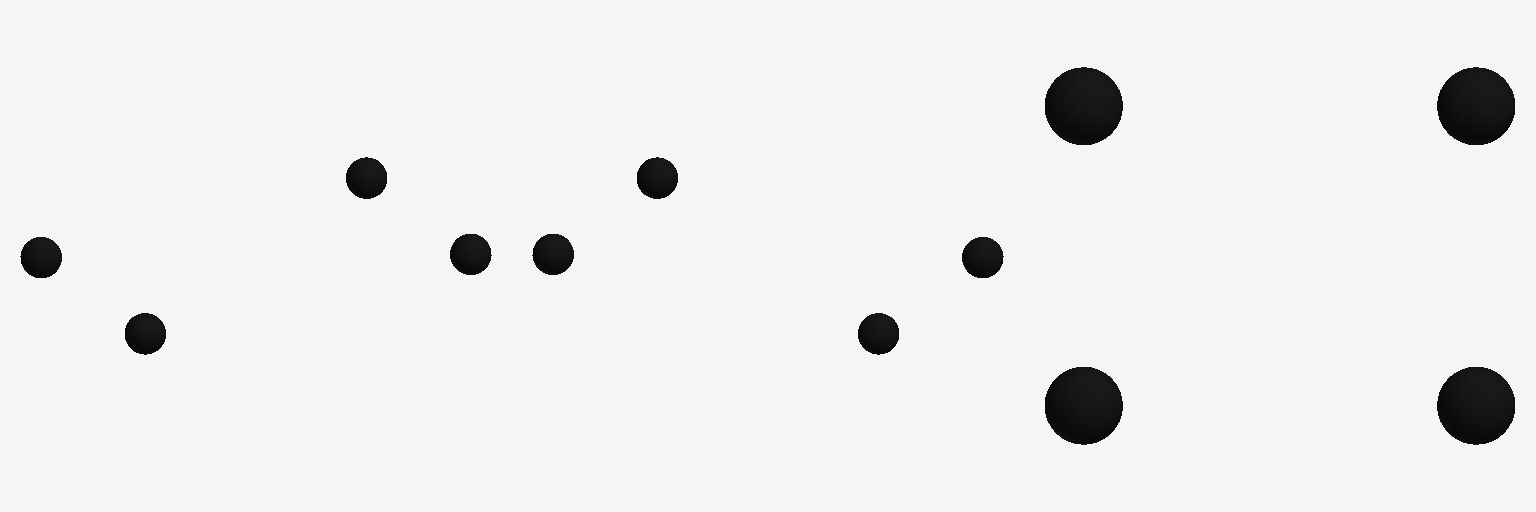
URDF robot description (spot):
<?xml version="1.0" ?>
<robot name="spot" xmlns:xacro="http://www.ros.org/wiki/xacro">
  <link name="body">
    <inertial>
      <origin xyz="0.004809 0.000034 0.002237" rpy="0 0 0" />
      <mass value="16.7025843015913" />
      <inertia ixx="0.1065076385293" ixy="-0.000127647906668351" ixz="0.00752667851730235" iyy="0.9648051370927" iyz="0.0000531096236423339" izz="0.98848474008588" />
    </inertial>
    <visual>
      <origin xyz="0 0 0" rpy="0 0 0" />
      <geometry>
        <mesh filename="fil[local-path]/Projects/spot_ros/spot_description/meshes/body.dae" />
      </geometry>
    </visual>
    <!-- <collision>
      <origin xyz="0 0 0" rpy="1.570796326794897 0 0" />
      <geometry>
        <mesh filename="fil[local-path]/Projects/spot_ros/spot_description/meshes/body_collision.obj" />
      </geometry>
    </collision> -->
  </link>

  <!-- <link name="base_link"/>
  <joint name="base_link_joint" type="fixed">
    <origin xyz="0 0 0" rpy="0 0 0" />
    <parent link="body" />
    <child link="base_link" />
  </joint>

    <link name="front_rail"/>
    <joint name="front_rail_joint" type="fixed">
        <origin xyz="0.223 0 0.0805" rpy="0 0 0" />
        <parent link="body" />
        <child link="front_rail" />
    </joint>

    <link name="real_front_rail"/>
    <joint name="real_front_rail_joint" type="fixed">
        <origin xyz="0.2075 0 0.0805" rpy="0 0 0" />
        <parent link="body" />
        <child link="real_front_rail" />
    </joint>

    <link name="rear_rail"/>
    <joint name="rear_rail_joint" type="fixed">
        <origin xyz="-0.223 0 0.0805" rpy="0 0 0" />
        <parent link="body" />
        <child link="rear_rail" />
    </joint>

    <link name="real_rear_rail"/>
    <joint name="real_rear_rail_joint" type="fixed">
        <origin xyz="-0.415 0 0" rpy="0 0 0" />
        <parent link="real_front_rail" />
        <child link="real_rear_rail" />
    </joint> -->

  <link name="front_left_hip">
    <inertial>
      <origin xyz="-0.021594 0.011931 -0.000853" rpy="0 0 0" />
      <mass value="0.756791487749432" />
      <inertia ixx="0.00120774835817126" ixy="-0.000122325587269513" ixz="-0.0000122242990654206" iyy="0.00180646541108866" iyz="0.00000765567378125789" izz="0.00191790889429149" />
    </inertial>
    <visual>
      <origin xyz="0 0 0" rpy="-1.570796326794897 0 0" />
      <geometry>
        <mesh filename="fil[local-path]/Projects/spot_ros/spot_description/meshes/front_left_hip.dae" />
      </geometry>
    </visual>
    <!-- <collision>
      <geometry>
        <mesh filename="fil[local-path]/Projects/spot_ros/spot_description/meshes/front_left_hip_collision.obj" />
      </geometry>
    </collision> -->
  </link>

  <joint name="front_left_hip_roll" type="revolute">
    <origin xyz="0.29785 0.05500 0.00000" rpy="1.570796326794897 0 0" />
    <axis xyz="1 0 0" />
    <parent link="body" />
    <child link="front_left_hip" />
    <limit lower="-0.78539816339744827899" upper="0.78539816339744827899" />
    <!-- <limit effort="1000" velocity="1000.00" lower="-0.78539816339744827899" upper="0.78539816339744827899" /> -->
  </joint>

  <transmission type="SimpleTransmission">
    <joint name="front_left_hip_roll"/>
    <actuator name="front_left_hip_roll"/>
  </transmission>

  <link name="front_left_upper_leg">
    <inertial>
      <origin xyz="0.002341 0.003056 -0.111288" rpy="0 0 0" />
      						
      <mass value="2.15112559989896" />
      <inertia ixx="0.0311784567757009" ixy="-0.0000365696514271281" ixz="0.000852211227582723" iyy="0.0305503817883304" iyz="0.00124412700492549" izz="0.00387948042434958" />
    </inertial>
    <visual>
      <origin xyz="0 0 0" rpy="-1.570796326794897 0 0" />
      <geometry>
        <mesh filename="fil[local-path]/Projects/spot_ros/spot_description/meshes/front_left_upper_leg.dae" />
      </geometry>
    </visual>
    <!-- <collision>
      <geometry>
        <mesh filename="fil[local-path]/Projects/spot_ros/spot_description/meshes/front_left_upper_leg_collision.obj" />
      </geometry>
    </collision> -->
  </link>

  <joint name="front_left_hip_pitch" type="revolute">
    <origin xyz="0.0 0.0 -0.11" rpy="0 0 0" />
    <axis xyz="0 0 1" />
    <parent link="front_left_hip" />
    <child link="front_left_upper_leg" />
    <limit lower="-2.460914245312005" upper="0.715584993317675" />
    <!-- <limit effort="1000" velocity="1000.00" lower="-0.89884456477707963539" upper="2.2951079663725435509" /> -->
  </joint>

  <transmission type="SimpleTransmission">
    <joint name="front_left_hip_pitch"/>
    <actuator name="front_left_hip_pitch"/>
  </transmission>

  <link name="front_left_lower_leg">
    <inertial>
      <origin xyz="0.006878 0.001493 -0.175910" rpy="0 0 0" />
      					
      <mass value="0.720139239706997" />
      <inertia ixx="0.0110974644165193" ixy="0.0000000929211922202576" ixz="0.0000894882703965648" iyy="0.0112150355361202" iyz="-0.0000326101761808538" izz="0.000439925059989896" />
    </inertial>
    <visual>
      <origin xyz="0 0 0" rpy="-1.570796326794897 0 0" />
      <geometry>
        <mesh filename="fil[local-path]/Projects/spot_ros/spot_description/meshes/front_left_lower_leg.dae" />
      </geometry>
    </visual>
    <visual>
      <origin xyz="0.0 -0.339 0.00225"/>
      <geometry>
        <sphere radius="0.033"/>
      </geometry>
      <material name="black">
      	<color rgba="0.1 0.1 0.1 0.3" />
      </material>
    </visual>
    <!-- <collision>
      <geometry>
        <mesh filename="fil[local-path]/Projects/spot_ros/spot_description/meshes/front_left_lower_leg_collision.obj" />
      </geometry>
    </collision> -->
    <collision>
      <origin xyz="0.0 -0.339 0.00225"/>
      <geometry>
        <sphere radius="0.033"/>
      </geometry>
    </collision>
  </link>

  <joint name="front_left_knee" type="revolute">
    <origin xyz="0.025 -0.319 0.0" rpy="0 0 0" />
    <axis xyz="0 0 1" />
    <parent link="front_left_upper_leg" />
    <child link="front_left_lower_leg" />
    <limit lower="0.244346095279206" upper="2.792526803190927" />
    <!-- <limit effort="1000" velocity="1000.00" lower="-2.7929" upper="-0.254801" /> -->
  </joint>

  <transmission type="SimpleTransmission">
    <joint name="front_left_knee"/>
    <actuator name="front_left_knee"/>
  </transmission>

  <frame link="front_left_lower_leg" name="front_left_foot_center" xyz="0.0 -0.339 0.00225"/>

  <link name="front_right_hip">
    <inertial>
      <origin xyz="-0.021565 -0.012054 -0.000772" rpy="0 0 0" />
      <mass value="0.756791487749432" />
      <inertia ixx="0.00121337009030058" ixy="0.000122841816115181" ixz="-0.0000137316872947714" iyy="0.00180859743622127" iyz="-0.00000418145364991159" izz="0.00192084107413488" />
    </inertial>
    <visual>
      <origin xyz="0 0 0" rpy="-1.570796326794897 0 0" />
      <geometry>
        <mesh filename="fil[local-path]/Projects/spot_ros/spot_description/meshes/front_right_hip.dae" />
      </geometry>
    </visual>
    <!-- <collision>
      <geometry>
        <mesh filename="fil[local-path]/Projects/spot_ros/spot_description/meshes/front_right_hip_collision.obj" />
      </geometry>
    </collision> -->
  </link>

  <joint name="front_right_hip_roll" type="revolute">
    <origin xyz="0.29785 -0.05500 0.00000" rpy="1.570796326794897 0 0" />
    <axis xyz="1 0 0" />
    <parent link="body" />
    <child link="front_right_hip" />
    <limit lower="-0.78539816339744827899" upper="0.78539816339744827899" />
    <!-- <limit effort="1000" velocity="1000.00" lower="-0.78539816339744827899" upper="0.78539816339744827899" /> -->
  </joint>

  <transmission type="SimpleTransmission">
    <joint name="front_right_hip_roll"/>
    <actuator name="front_right_hip_roll"/>
  </transmission>

  <link name="front_right_upper_leg">
    <inertial>
      <origin xyz="0.002254 -0.003185 -0.111253" rpy="0 0 0" />
      <mass value="2.15112559989896" />
      <inertia ixx="0.0311965454344531" ixy="0.0000380202544834554" ixz="0.000859582975498863" iyy="0.0305693170623895" iyz="-0.00127139421255368" izz="0.0038813130367517" />
    </inertial>
    <visual>
      <origin xyz="0 0 0" rpy="-1.570796326794897 0 0" />
      <geometry>
        <mesh filename="fil[local-path]/Projects/spot_ros/spot_description/meshes/front_right_upper_leg.dae" />
      </geometry>
    </visual>
    <!-- <collision>
      <geometry>
        <mesh filename="fil[local-path]/Projects/spot_ros/spot_description/meshes/front_right_upper_leg_collision.obj" />
      </geometry>
    </collision> -->
  </link>
    
  <joint name="front_right_hip_pitch" type="revolute">
    <origin xyz="0.0 0.0 0.11" rpy="0 0 0" />
    <axis xyz="0 0 1" />
    <parent link="front_right_hip" />
    <child link="front_right_upper_leg" />
    <limit lower="-2.460914245312005" upper="0.715584993317675" />
    <!-- <limit effort="1000" velocity="1000.00" lower="-0.89884456477707963539" upper="2.2951079663725435509" /> -->
  </joint>

  <transmission type="SimpleTransmission">
    <joint name="front_right_hip_pitch"/>
    <actuator name="front_right_hip_pitch"/>
  </transmission>

  <link name="front_right_lower_leg">
    <inertial>
      <origin xyz="0.006958 -0.002006 -0.175946" rpy="0 0 0" />
      <mass value="0.720139239706997" />
      <inertia ixx="0.0110986207691336" ixy="0.000000170355519070472" ixz="0.000087640171129073" iyy="0.0112165067883304" iyz="0.0000194050423086638" izz="0.000440276095604951" />
    </inertial>
    <visual>
      <origin xyz="0 0 0" rpy="-1.570796326794897 0 0" />
      <geometry>
        <mesh filename="fil[local-path]/Projects/spot_ros/spot_description/meshes/front_right_lower_leg.dae" />
      </geometry>
    </visual>
    <visual>
      <origin xyz="0.0 -0.339 0.00225"/>
      <geometry>
        <sphere radius="0.033"/>
      </geometry>
      <material name="black">
      	<color rgba="0.1 0.1 0.1 0.3" />
      </material>
    </visual>
    <!-- <collision>
      <geometry>
        <mesh filename="fil[local-path]/Projects/spot_ros/spot_description/meshes/front_right_lower_leg_collision.obj" />
      </geometry>
    </collision> -->
    <collision>
      <origin xyz="0.0 -0.339 0.00225"/>
      <geometry>
        <sphere radius="0.033"/>
      </geometry>
    </collision>
  </link>

  <joint name="front_right_knee" type="revolute">
    <origin xyz="0.025 -0.319 0.0" rpy="0 0 0" />
    <axis xyz="0 0 1" />
    <parent link="front_right_upper_leg" />
    <child link="front_right_lower_leg" />
    <limit lower="0.244346095279206" upper="2.792526803190927" />
    <!-- <limit effort="1000" velocity="1000.00" lower="-2.7929" upper="-0.247563" /> -->
  </joint>

  <transmission type="SimpleTransmission">
    <joint name="front_right_knee"/>
    <actuator name="front_right_knee"/>
  </transmission>

  <frame link="front_right_lower_leg" name="front_right_foot_center" xyz="0.0 -0.339 0.00225"/>

  <link name="rear_left_hip">
    <inertial>
      <origin xyz="0.021682 0.012004 -0.000661" rpy="0 0 0" />
      <mass value="0.756791487749432" />
      <inertia ixx="0.00122448449734782" ixy="0.000126729019323061" ixz="0.0000122191367769639" iyy="0.00181365647890882" iyz="0.000000836290729982319" izz="0.00193590463185148" />
    </inertial>
    <visual>
      <origin xyz="0 0 0" rpy="-1.570796326794897 0 0" />
      <geometry>
        <mesh filename="fil[local-path]/Projects/spot_ros/spot_description/meshes/rear_left_hip.dae" />
      </geometry>
    </visual>
    <!-- <collision>
      <geometry>
        <mesh filename="fil[local-path]/Projects/spot_ros/spot_description/meshes/rear_left_hip_collision.obj" />
      </geometry>
    </collision> -->
  </link>

  <joint name="rear_left_hip_roll" type="revolute">
    <origin xyz="-0.29785 0.05500 0.00000" rpy="1.570796326794897 0 0" />
    <axis xyz="1 0 0" />
    <parent link="body" />
    <child link="rear_left_hip" />
    <limit lower="-0.78539816339744827899" upper="0.78539816339744827899" />
    <!-- <limit effort="1000" velocity="1000.00" lower="-0.78539816339744827899" upper="0.78539816339744827899" /> -->
  </joint>

  <transmission type="SimpleTransmission">
    <joint name="rear_left_hip_roll"/>
    <actuator name="rear_left_hip_roll"/>
  </transmission>

  <link name="rear_left_upper_leg">
    <inertial>
      <origin xyz="0.002219 0.002914 -0.111421" rpy="0 0 0" />
      <mass value="2.15112559989896" />
      <inertia ixx="0.031158313526143" ixy="-0.0000335239012376863" ixz="0.000868720226067189" iyy="0.0305423441052033" iyz="0.00119244733518565" izz="0.00386811822745643" />
    </inertial>
    <visual>
      <origin xyz="0 0 0" rpy="-1.570796326794897 0 0" />
      <geometry>
        <mesh filename="fil[local-path]/Projects/spot_ros/spot_description/meshes/rear_left_upper_leg.dae" />
      </geometry>
    </visual>
    <!-- <collision>
      <geometry>
        <mesh filename="fil[local-path]/Projects/spot_ros/spot_description/meshes/rear_left_upper_leg_collision.obj" />
      </geometry>
    </collision> -->
  </link>

  <joint name="rear_left_hip_pitch" type="revolute">
    <origin xyz="0.0 0.0 -0.11" rpy="0 0 0" />
    <axis xyz="0 0 1" />
    <parent link="rear_left_hip" />
    <child link="rear_left_upper_leg" />
    <limit lower="-2.460914245312005" upper="0.715584993317675" />
    <!-- <limit effort="1000" velocity="1000.00" lower="-0.89884456477707963539" upper="2.2951079663725435509" /> -->
  </joint>

  <transmission type="SimpleTransmission">
    <joint name="rear_left_hip_pitch"/>
    <actuator name="rear_left_hip_pitch"/>
  </transmission>

  <link name="rear_left_lower_leg">
    <inertial>
      <origin xyz="0.006659 0.001625 -0.175832" rpy="0 0 0" />
      						
      <mass value="0.720139239706997" />
      <inertia ixx="0.0110892254041425" ixy="-0.000000851777595352362" ixz="0.0000737587774690578" iyy="0.0112056246842637" iyz="0.00000427437484213185" izz="0.000438257640818388" />
    </inertial>
    <visual>
      <origin xyz="0 0 0" rpy="-1.570796326794897 0 0" />
      <geometry>
        <mesh filename="fil[local-path]/Projects/spot_ros/spot_description/meshes/rear_left_lower_leg.dae" />
      </geometry>
    </visual>
    <visual>
      <origin xyz="0.0 -0.339 0.00225"/>
      <geometry>
        <sphere radius="0.033"/>
      </geometry>
      <material name="black">
      	<color rgba="0.1 0.1 0.1 0.3" />
      </material>
    </visual>
    <!-- <collision>
      <geometry>
        <mesh filename="fil[local-path]/Projects/spot_ros/spot_description/meshes/rear_left_lower_leg_collision.obj" />
      </geometry>
    </collision> -->
    <collision>
      <origin xyz="0.0 -0.339 0.00225"/>
      <geometry>
        <sphere radius="0.033"/>
      </geometry>
    </collision>
  </link> 

  <joint name="rear_left_knee" type="revolute">
    <origin xyz="0.025 -0.319 0.0" rpy="0 0 0" />
    <axis xyz="0 0 1" />
    <parent link="rear_left_upper_leg" />
    <child link="rear_left_lower_leg" />
    <limit lower="0.244346095279206" upper="2.792526803190927" />
    <!-- <limit effort="1000" velocity="1000.00" lower="-2.7929" upper="-0.267153" /> -->
  </joint>

  <transmission type="SimpleTransmission">
    <joint name="rear_left_knee"/>
    <actuator name="rear_left_knee"/>
  </transmission>

  <frame link="rear_left_lower_leg" name="rear_left_foot_center" xyz="0.0 -0.339 0.00225"/>

  <link name="rear_right_hip"> 
    <inertial>
      <origin xyz="0.021709 -0.011993 -0.000648" rpy="0 0 0" />
      						
      <mass value="0.756791487749432" />
      <inertia ixx="0.00122605383303865" ixy="-0.000126889050265218" ixz="0.0000125598478151048" iyy="0.00181415205860066" iyz="-0.000000877589037635767" izz="0.0019359252810053" />
    </inertial>
    <visual>
      <origin xyz="0 0 0" rpy="-1.570796326794897 0 0" />
      <geometry>
        <mesh filename="fil[local-path]/Projects/spot_ros/spot_description/meshes/rear_right_hip.dae" />
      </geometry>
    </visual>
    <!-- <collision>
      <geometry>
          <mesh filename="fil[local-path]/Projects/spot_ros/spot_description/meshes/rear_right_hip_collision.obj" />
      </geometry>
    </collision> -->
  </link>

  <joint name="rear_right_hip_roll" type="revolute">
    <origin xyz="-0.29785 -0.05500 0.00000" rpy="1.570796326794897 0 0" />
    <axis xyz="1 0 0" />
    <parent link="body" />
    <child link="rear_right_hip" />
    <limit lower="-0.78539816339744827899" upper="0.78539816339744827899" />
    <!-- <limit effort="1000" velocity="1000.00" lower="-0.78539816339744827899" upper="0.78539816339744827899" /> -->
  </joint>

  <transmission type="SimpleTransmission">
    <joint name="rear_right_hip_roll"/>
    <actuator name="rear_right_hip_roll"/>
  </transmission>

  <link name="rear_right_upper_leg">
    <inertial>
      <origin xyz="0.002229 -0.002974 -0.111411" rpy="0 0 0" />
      <mass value="2.15112559989896" />
      <inertia ixx="0.0311915535015155" ixy="0.0000351035615054307" ixz="0.000888037509472089" iyy="0.0305721408341753" iyz="-0.00121686495958575" izz="0.00387716771912099" />
    </inertial>
    <visual>
      <origin xyz="0 0 0" rpy="-1.570796326794897 0 0" />
      <geometry>
        <mesh filename="fil[local-path]/Projects/spot_ros/spot_description/meshes/rear_right_upper_leg.dae" />
      </geometry>
    </visual>
    <!-- <collision>
      <geometry>
        <mesh filename="fil[local-path]/Projects/spot_ros/spot_description/meshes/rear_right_upper_leg_collision.obj" />
      </geometry>
    </collision> -->
  </link>

  <joint name="rear_right_hip_pitch" type="revolute">
    <origin xyz="0.0 0.0 0.11" rpy="0 0 0" />
    <axis xyz="0 0 1" />
    <parent link="rear_right_hip" />
    <child link="rear_right_upper_leg" />
    <limit lower="-2.460914245312005" upper="0.715584993317675" />
    <!-- <limit effort="1000" velocity="1000.00" lower="-0.89884456477707963539" upper="2.2951079663725435509" /> -->
  </joint>

  <transmission type="SimpleTransmission">
    <joint name="rear_right_hip_pitch"/>
    <actuator name="rear_right_hip_pitch"/>
  </transmission>

  <link name="rear_right_lower_leg">
    <inertial>
      <origin xyz="0.006799 -0.001949 -0.175935" rpy="0 0 0" />
      <mass value="0.720139239706997" />
      <inertia ixx="0.0111049652216469" ixy="0.000000438794518817883" ixz="0.0000764999526395554" iyy="0.0112211734970952" iyz="-0.00001322062073756" izz="0.000439155879009851" />
    </inertial>
    <visual>
      <origin xyz="0 0 0" rpy="-1.570796326794897 0 0" />
      <geometry>
        <mesh filename="fil[local-path]/Projects/spot_ros/spot_description/meshes/rear_right_lower_leg.dae" />
      </geometry>
    </visual>
    <visual>
      <origin xyz="0.0 -0.339 0.00225"/>
      <geometry>
        <sphere radius="0.033"/>
      </geometry>
      <material name="black">
      	<color rgba="0.1 0.1 0.1 0.3" />
      </material>
    </visual>
    <!-- <collision>
      <origin xyz="0 0 0" rpy="0 0 0" />
      <geometry>
        <mesh filename="fil[local-path]/Projects/spot_ros/spot_description/meshes/rear_right_lower_leg_collision.obj" />
      </geometry>
    </collision> -->
    <collision>
      <origin xyz="0.0 -0.339 0.00225"/>
      <geometry>
        <sphere radius="0.033"/>
      </geometry>
    </collision>
  </link>


  <joint name="rear_right_knee" type="revolute">
    <origin xyz="0.025 -0.319 0.0" rpy="0 0 0" />
    <axis xyz="0 0 1" />
    <parent link="rear_right_upper_leg" />
    <child link="rear_right_lower_leg" />
    <limit lower="0.244346095279206" upper="2.792526803190927" />
    <!-- <limit effort="1000" velocity="1000.00" lower="-2.7929" upper="-0.257725" /> -->
  </joint>

  <transmission type="SimpleTransmission">
    <joint name="rear_right_knee"/>
    <actuator name="rear_right_knee"/>
  </transmission>
  
  <frame link="rear_right_lower_leg" name="rear_right_foot_center" xyz="0.0 -0.339 0.00225"/>
    
  <!-- Standard accessories. 
  <xacro:include filename="$(find spot_description)/urdf/accessories.urdf.xacro" /> -->

  <!-- Optional custom includes. 
  <xacro:include filename="$(optenv SPOT_URDF_EXTRAS empty.urdf)" /> -->
</robot>

--- Facts derived from the render (not from the file) ---
Views: 3 orthographic renders of the robot side by side, from view 1: azimuth 30°, elevation 25°; view 2: azimuth 150°, elevation 25°; view 3: azimuth 270°, elevation 25°.
Robot: spot — 13 links, 12 joints (12 revolute); root link body; default pose: joints at zero except 4 at the middle of their limits (front_left_knee = 1.52, front_right_knee = 1.52, rear_left_knee = 1.52, rear_right_knee = 1.52).
Links seen in each view (by area): view 1: front_left_lower_leg, rear_right_lower_leg, front_right_lower_leg, rear_left_lower_leg; view 2: front_right_lower_leg, rear_left_lower_leg, front_left_lower_leg, rear_right_lower_leg; view 3: front_left_lower_leg, front_right_lower_leg, rear_left_lower_leg, rear_right_lower_leg.
Boxes of the visible links, x1,y1,x2,y2 form: front_left_lower_leg: (346,157,386,198); rear_right_lower_leg: (125,313,165,354); front_right_lower_leg: (450,234,491,274); rear_left_lower_leg: (20,237,61,277); front_right_lower_leg: (637,157,677,198); rear_left_lower_leg: (858,313,898,354); front_left_lower_leg: (532,234,573,274); rear_right_lower_leg: (962,237,1003,277); front_left_lower_leg: (1437,367,1514,444); front_right_lower_leg: (1045,367,1122,444); rear_left_lower_leg: (1437,67,1514,144); rear_right_lower_leg: (1045,67,1122,144).
Size in the robot's own frame: 0.6616 by 0.396 by 0.0659 metres.
Geometry: only primitive shapes (box / cylinder / sphere) drawn; not drawn: 13 mesh visuals (reference in a form the renderer does not follow).